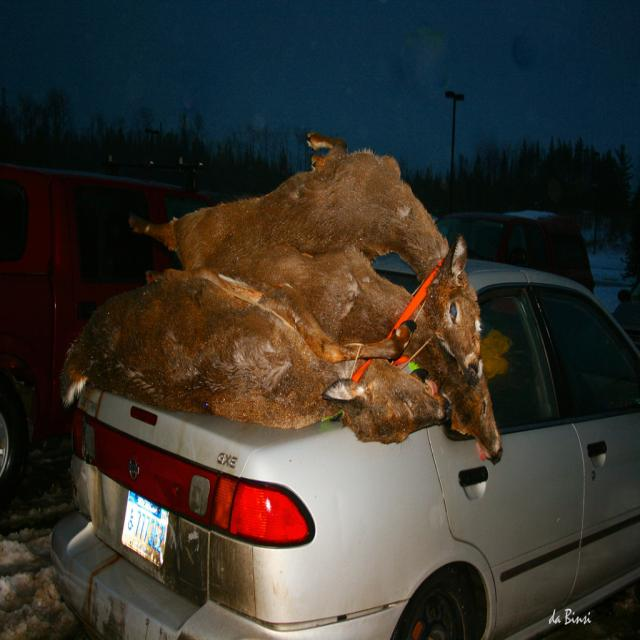car: (46, 257, 639, 638)
